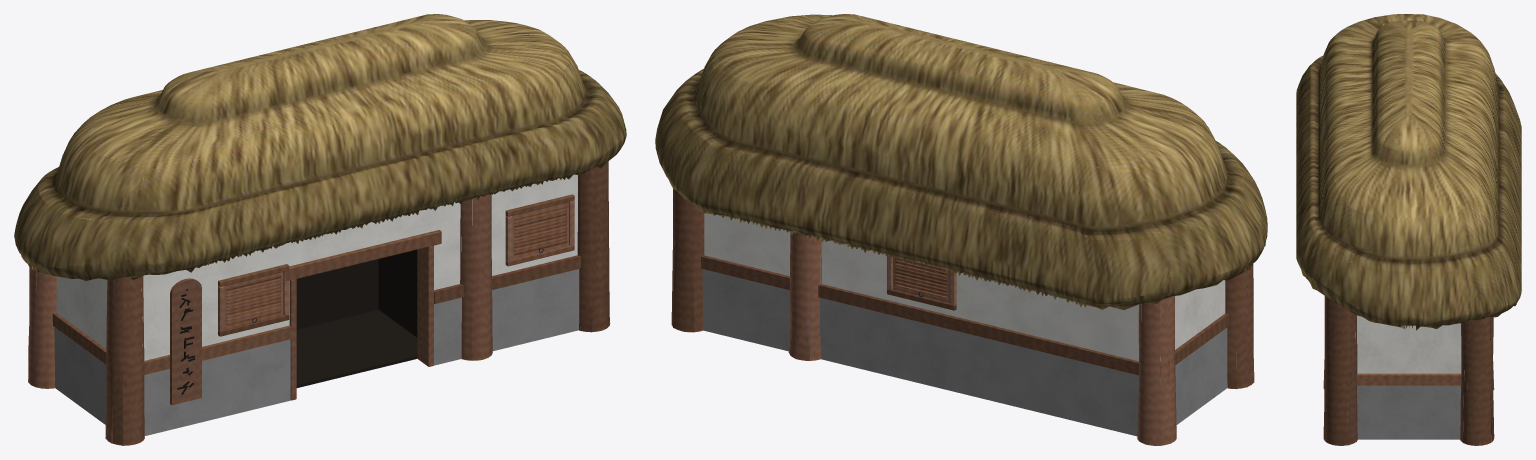
Rendered from house-plain_hd.glb.
The picture shows the model from 3 angles, left to right: view 1: azimuth 30°, elevation 25°; view 2: azimuth 150°, elevation 25°; view 3: azimuth 270°, elevation 25°; orthographic projection. The views are drawn at different scales.
Visible parts, largest first — view 1: house_plain; view 2: house_plain; view 3: house_plain.
Part boxes in pixels (bbox=[...]): house_plain: bbox=[14, 14, 626, 445]; house_plain: bbox=[655, 14, 1267, 445]; house_plain: bbox=[1296, 14, 1521, 445].
Size of the model in its own units: 8.14 by 4.08 by 3.12.
1 material, 1 textured.
